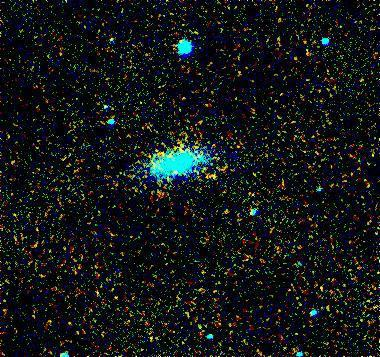star: (196, 157, 226, 187)
